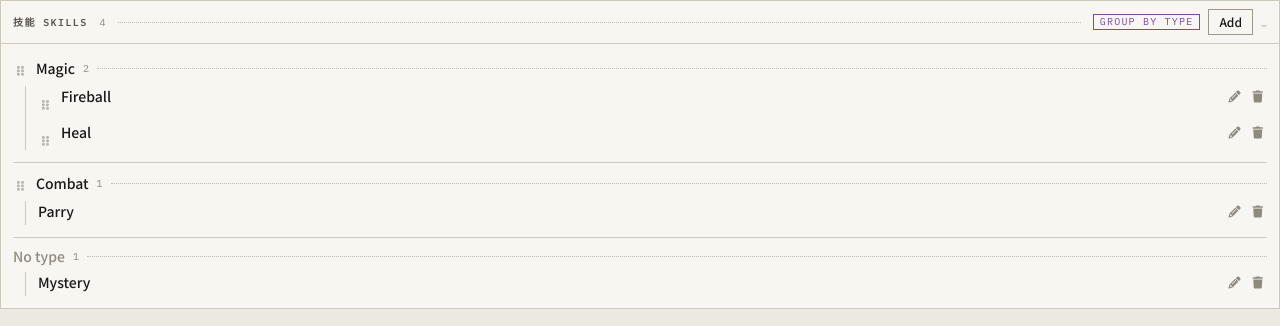
Test: groupable_by › toggles back to the flat list, and remembers the choice
The image size is (1280, 326).
Click the button "Group by type".
click(1147, 22)  # box [1093, 14, 1200, 30]
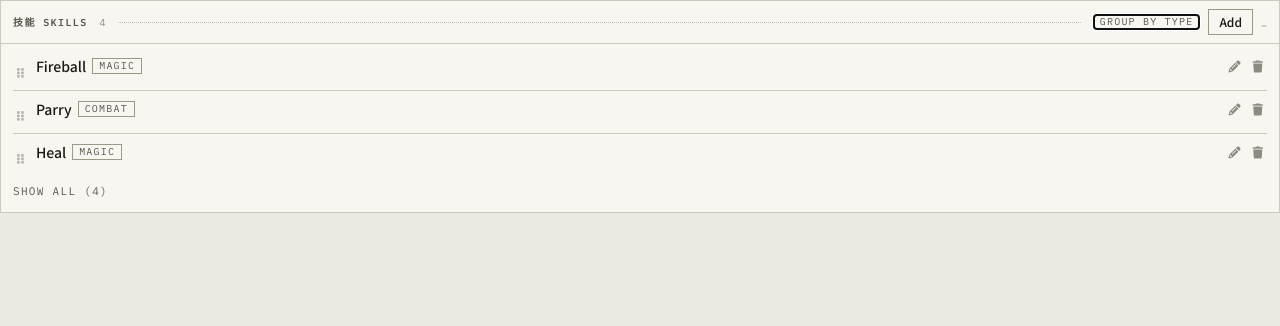
Check: the text "Parry" is shown, box [36, 99, 72, 119]
Check: the text "Magic" is shown 2 times, box [92, 58, 142, 74]; [72, 144, 122, 160]
